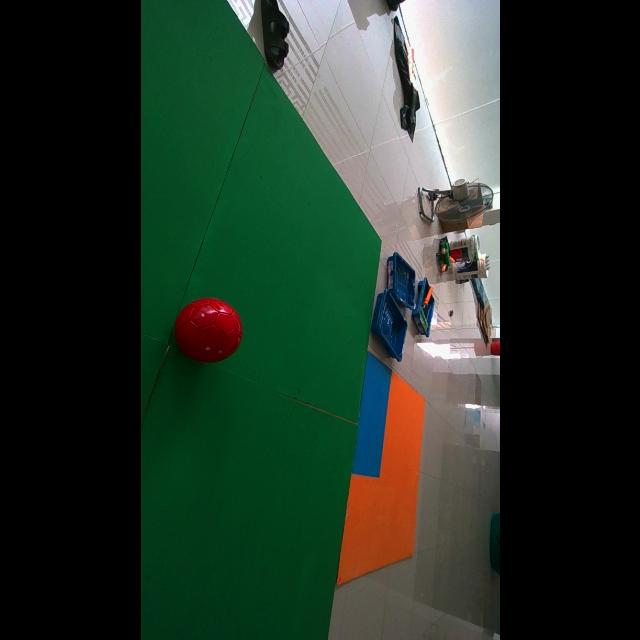R: (173, 298, 243, 362)
